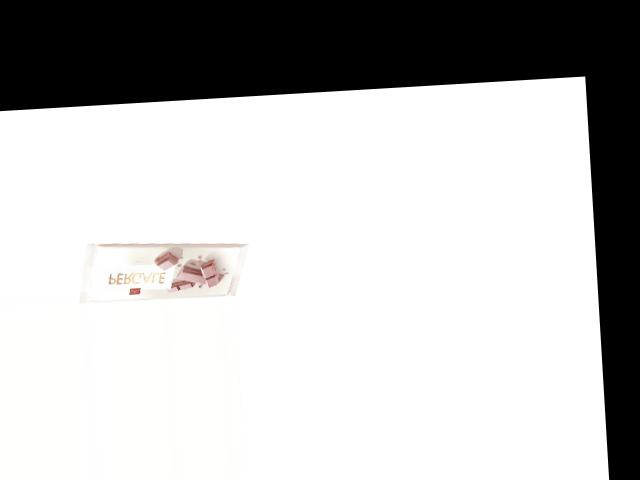chocolate: (73, 236, 254, 304)
